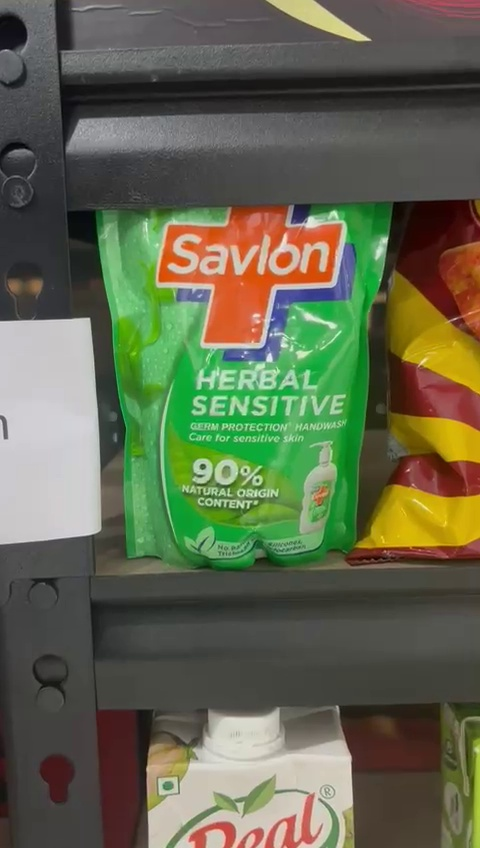Savlon Herbal: (94, 206, 375, 573)
